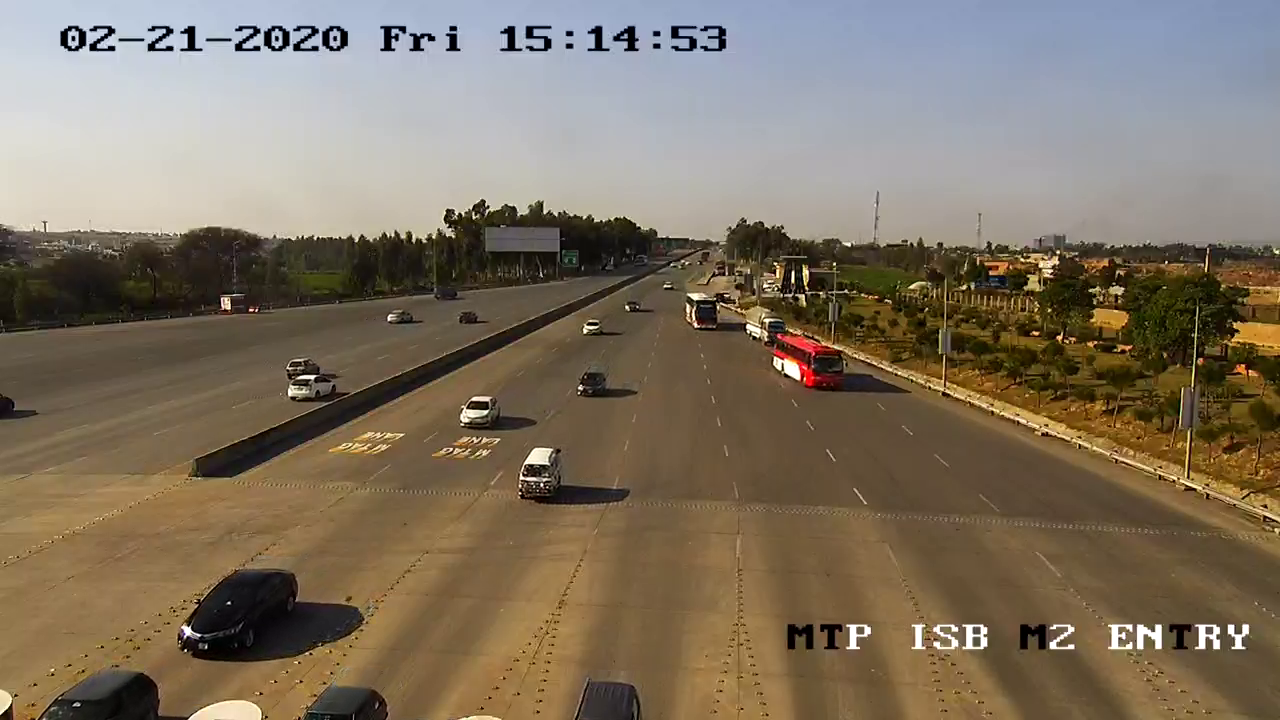f1: (161, 555, 306, 673), (508, 439, 571, 512), (447, 387, 510, 436)
f4: (767, 327, 853, 398)
